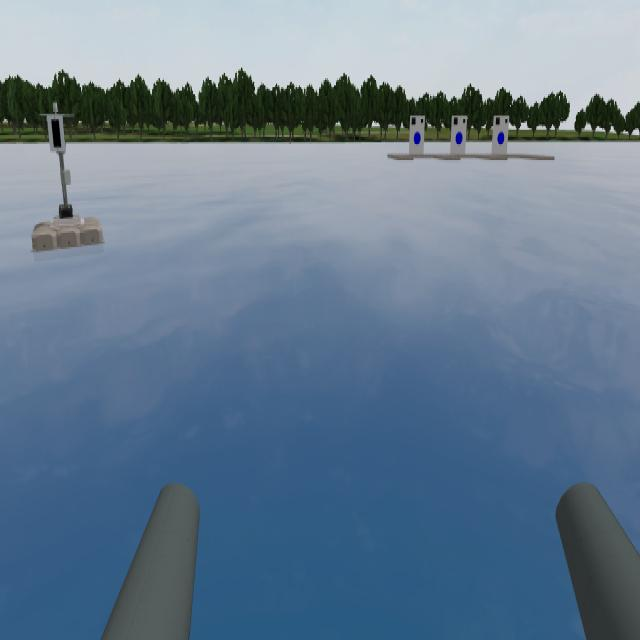black_pole: (40, 101, 78, 164)
